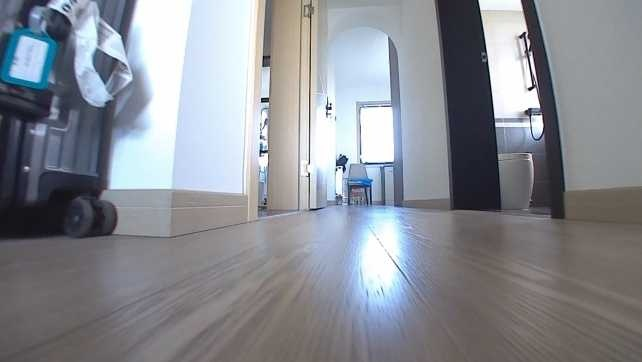door_anno: (265, 0, 334, 212)
toilet: (496, 150, 533, 211)
